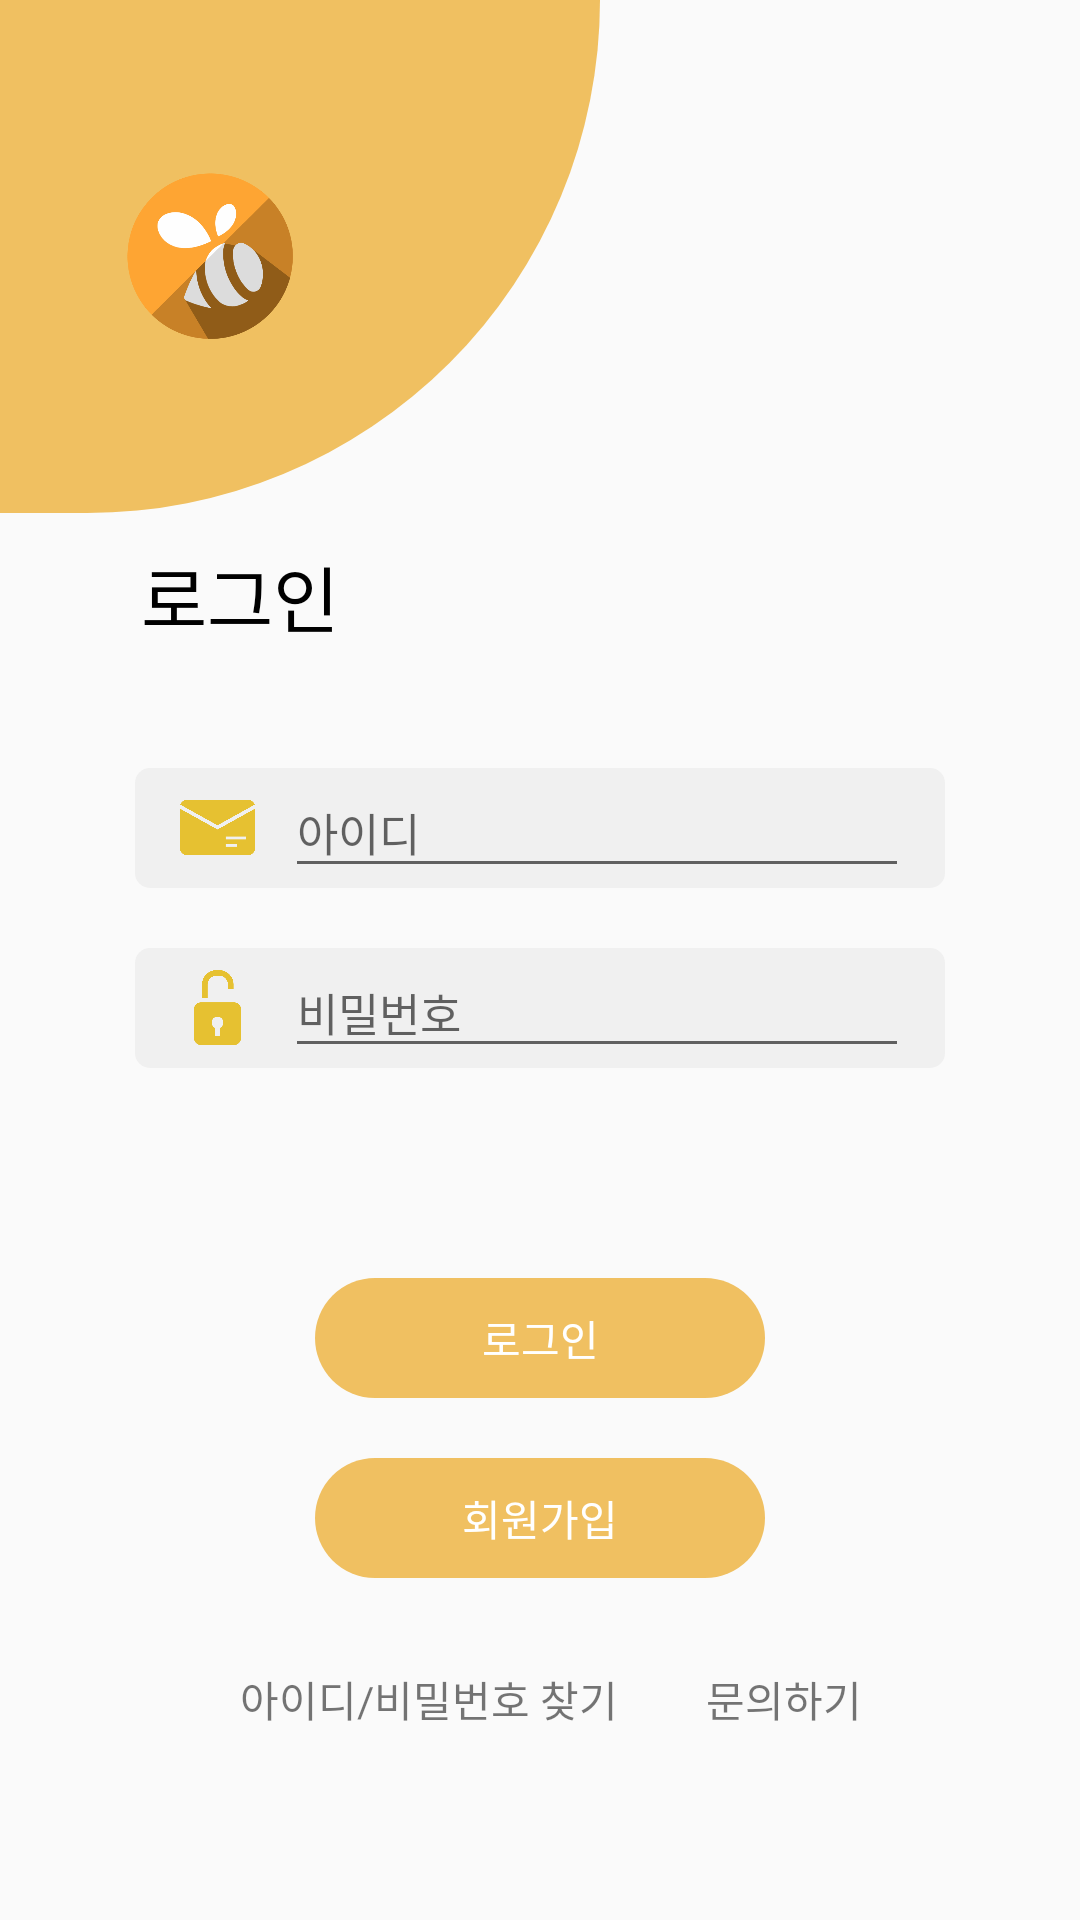

Named icons in this screenshot (1080*1920) and their centers, point (x, y):
iconfinder email: point (217, 827)
iconfinder password: point (217, 1007)
